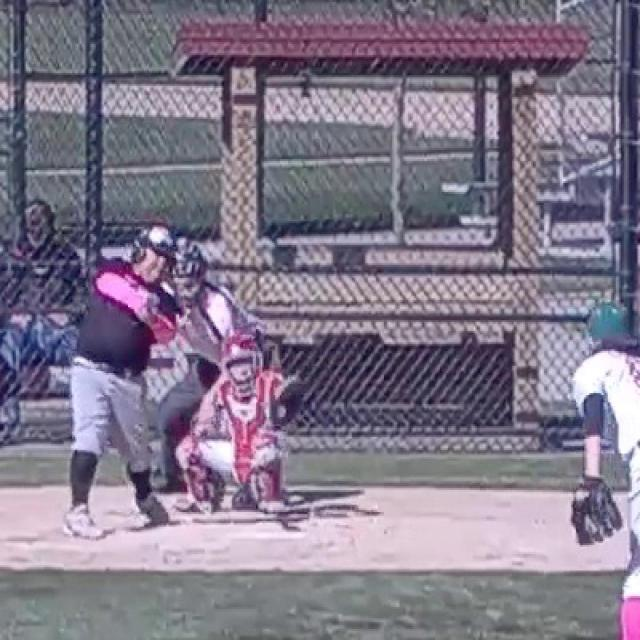baseball: (277, 406, 287, 418)
